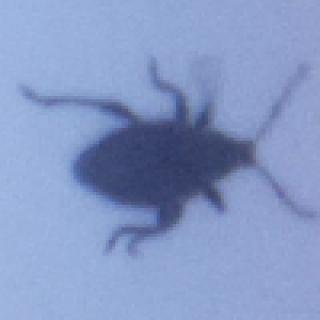bvw: (20, 50, 320, 261)
